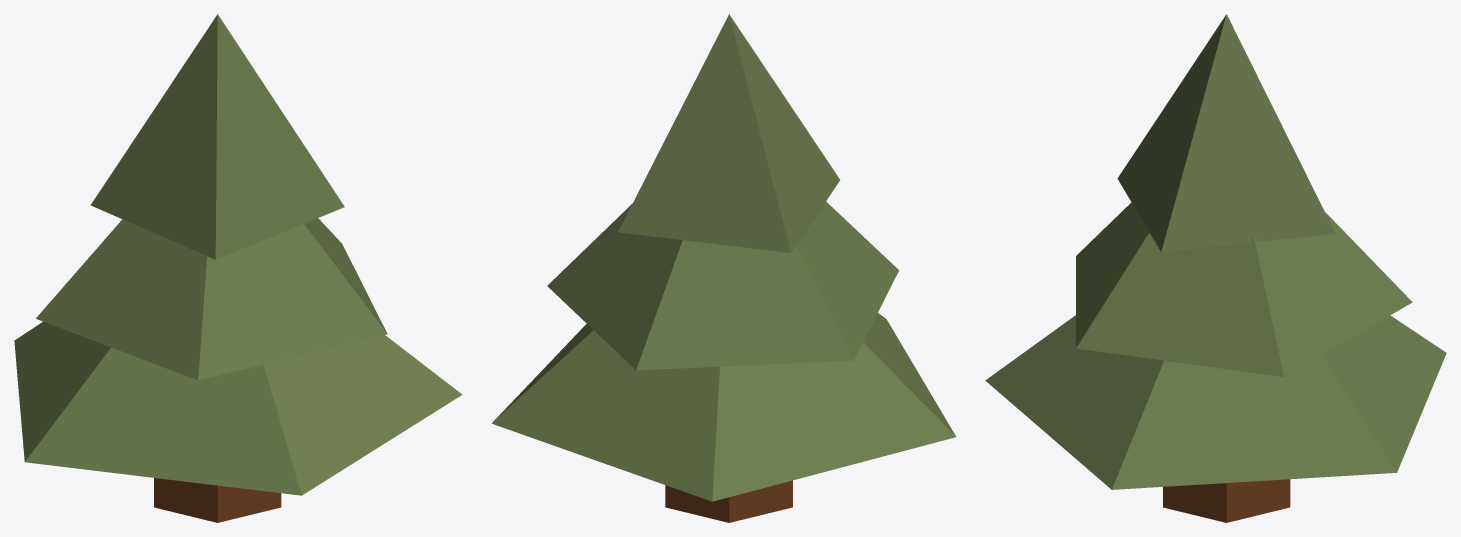
File: tree4.glb
3 renders of one model, left to right at view 1: azimuth 30°, elevation 25°; view 2: azimuth 150°, elevation 25°; view 3: azimuth 270°, elevation 25°, orthographic.
Parts seen in each view (by area): view 1: Plane; view 2: Plane; view 3: Plane.
Boxes of the visible parts, <box> form: Plane: <box>14,14,462,522</box>; Plane: <box>492,14,955,522</box>; Plane: <box>985,14,1446,522</box>.
Bounding box in the file's own units: 3.12 × 3.58 × 3.13.
